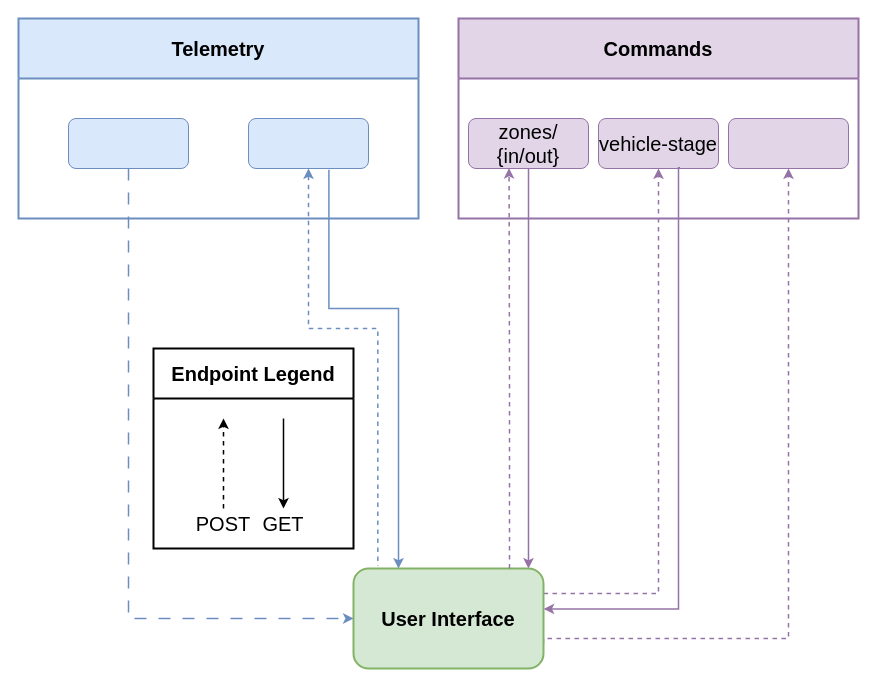
The diagram is 876 pixels wide and 686 high, and some of its shapes have lost their labels. Here are the shapes that lost their labels. From the top down, the centre of each, then its label:
At (128,143): "Vehicle".
At (308,143): "vehicle-data".
At (788,143): "vehicle-status".
